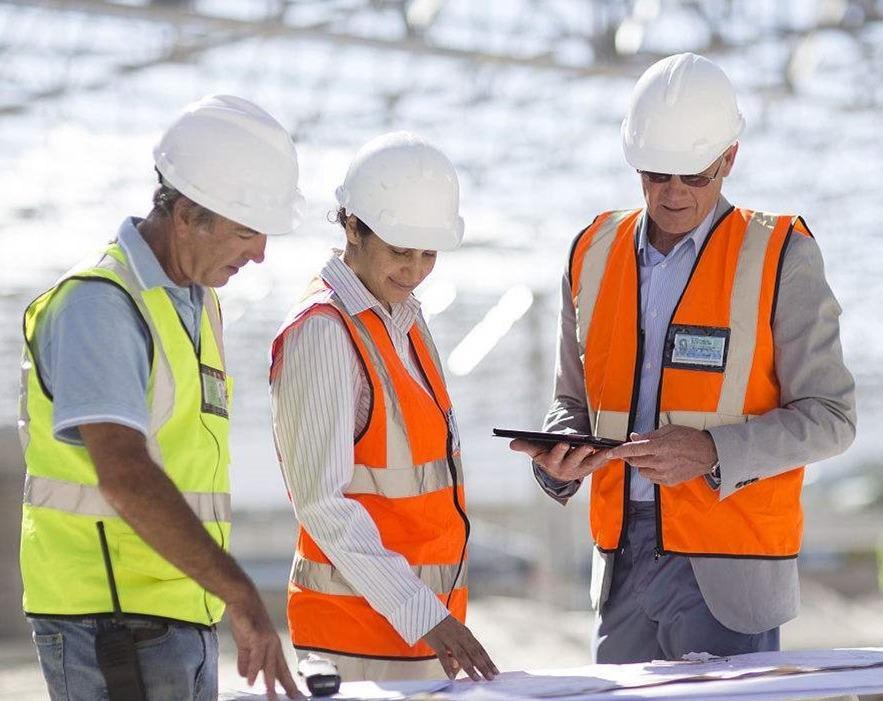helmet: (151, 85, 304, 230), (334, 138, 473, 249), (625, 65, 742, 177)
no-gloves: (218, 601, 301, 688), (614, 417, 725, 481), (414, 609, 500, 683), (527, 434, 605, 481)
person: (537, 65, 844, 701), (20, 77, 277, 701), (252, 125, 505, 694)
vest: (570, 222, 825, 545), (13, 247, 234, 603), (268, 292, 462, 609)
